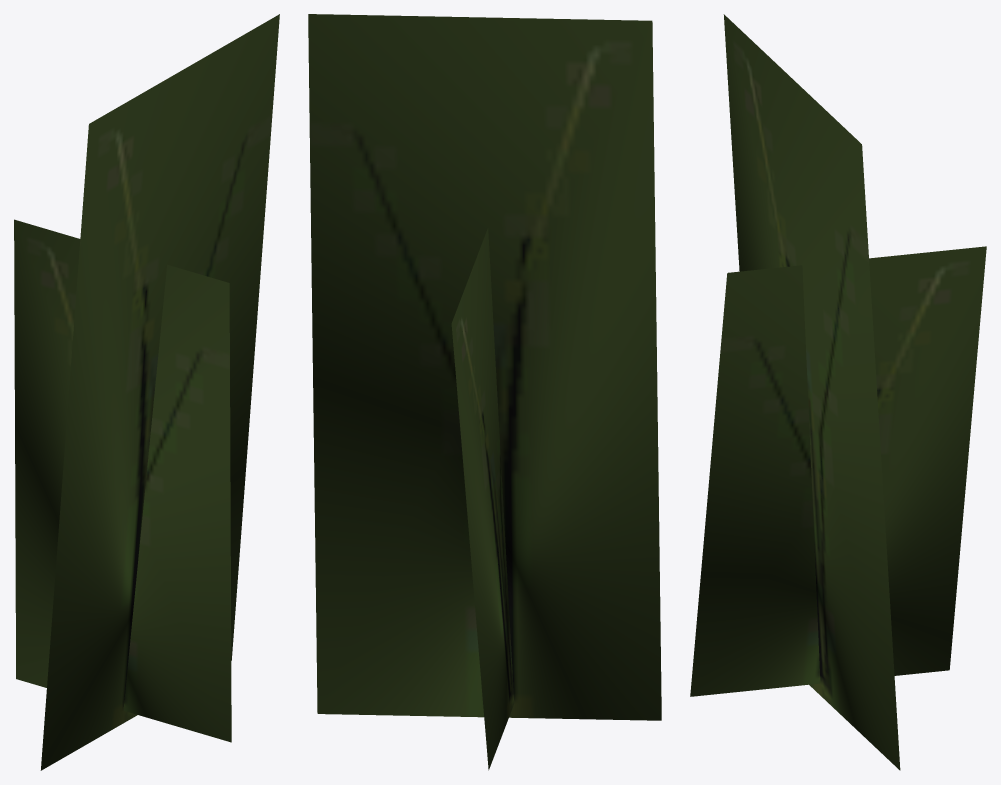
The model's file is swmp_shor_cattail_med_l2.fbx.
3 views of the same model, side by side, from view 1: azimuth 30°, elevation 25°; view 2: azimuth 150°, elevation 25°; view 3: azimuth 270°, elevation 25° (orthographic). The views are drawn at different scales.
Parts seen in each view (by area): view 1: mesh_node; view 2: mesh_node; view 3: mesh_node.
Boxes of the visible parts, left/top/right/bottom form: mesh_node: left=14, top=14, right=279, bottom=770; mesh_node: left=308, top=14, right=661, bottom=770; mesh_node: left=690, top=14, right=986, bottom=770.
Bounding box in the file's own units: 1.22 × 2.65 × 1.1.
